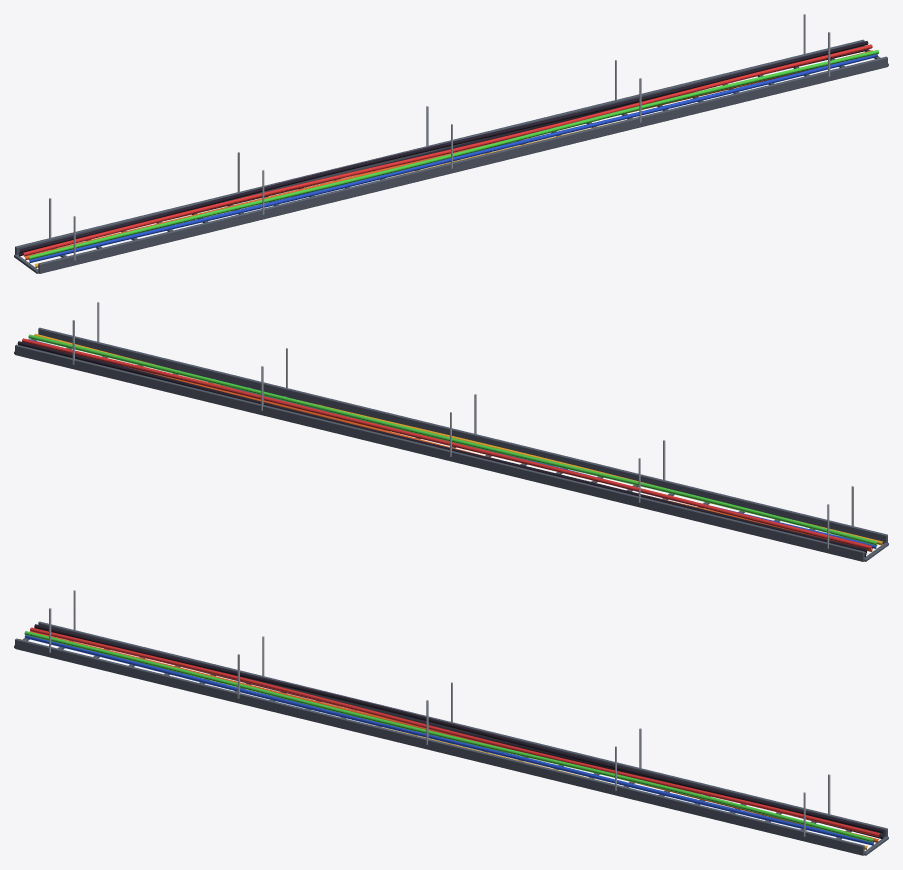
File: mc_cable_tray__001.glb
3 renders of one model, top to bottom at view 1: azimuth 30°, elevation 25°; view 2: azimuth 150°, elevation 25°; view 3: azimuth 330°, elevation 25°, orthographic.
Parts seen in each view (by area): view 1: merged_toon_ffffff_1, merged_toon_ffffff, merged_toon_A8B0BA; view 2: merged_toon_ffffff, merged_toon_ffffff_1, merged_toon_A8B0BA; view 3: merged_toon_ffffff_1, merged_toon_ffffff, merged_toon_A8B0BA.
Boxes of the visible parts, x1,y1,x2,y2 form: merged_toon_ffffff_1: (18, 41, 878, 267); merged_toon_ffffff: (14, 39, 888, 273); merged_toon_A8B0BA: (49, 14, 830, 260); merged_toon_ffffff: (14, 327, 888, 561); merged_toon_ffffff_1: (17, 333, 882, 557); merged_toon_A8B0BA: (72, 302, 853, 548); merged_toon_ffffff_1: (21, 624, 883, 849); merged_toon_ffffff: (14, 621, 888, 855); merged_toon_A8B0BA: (49, 590, 830, 836).
Bounding box in the file's own units: 7.23 × 0.4 × 0.376.
